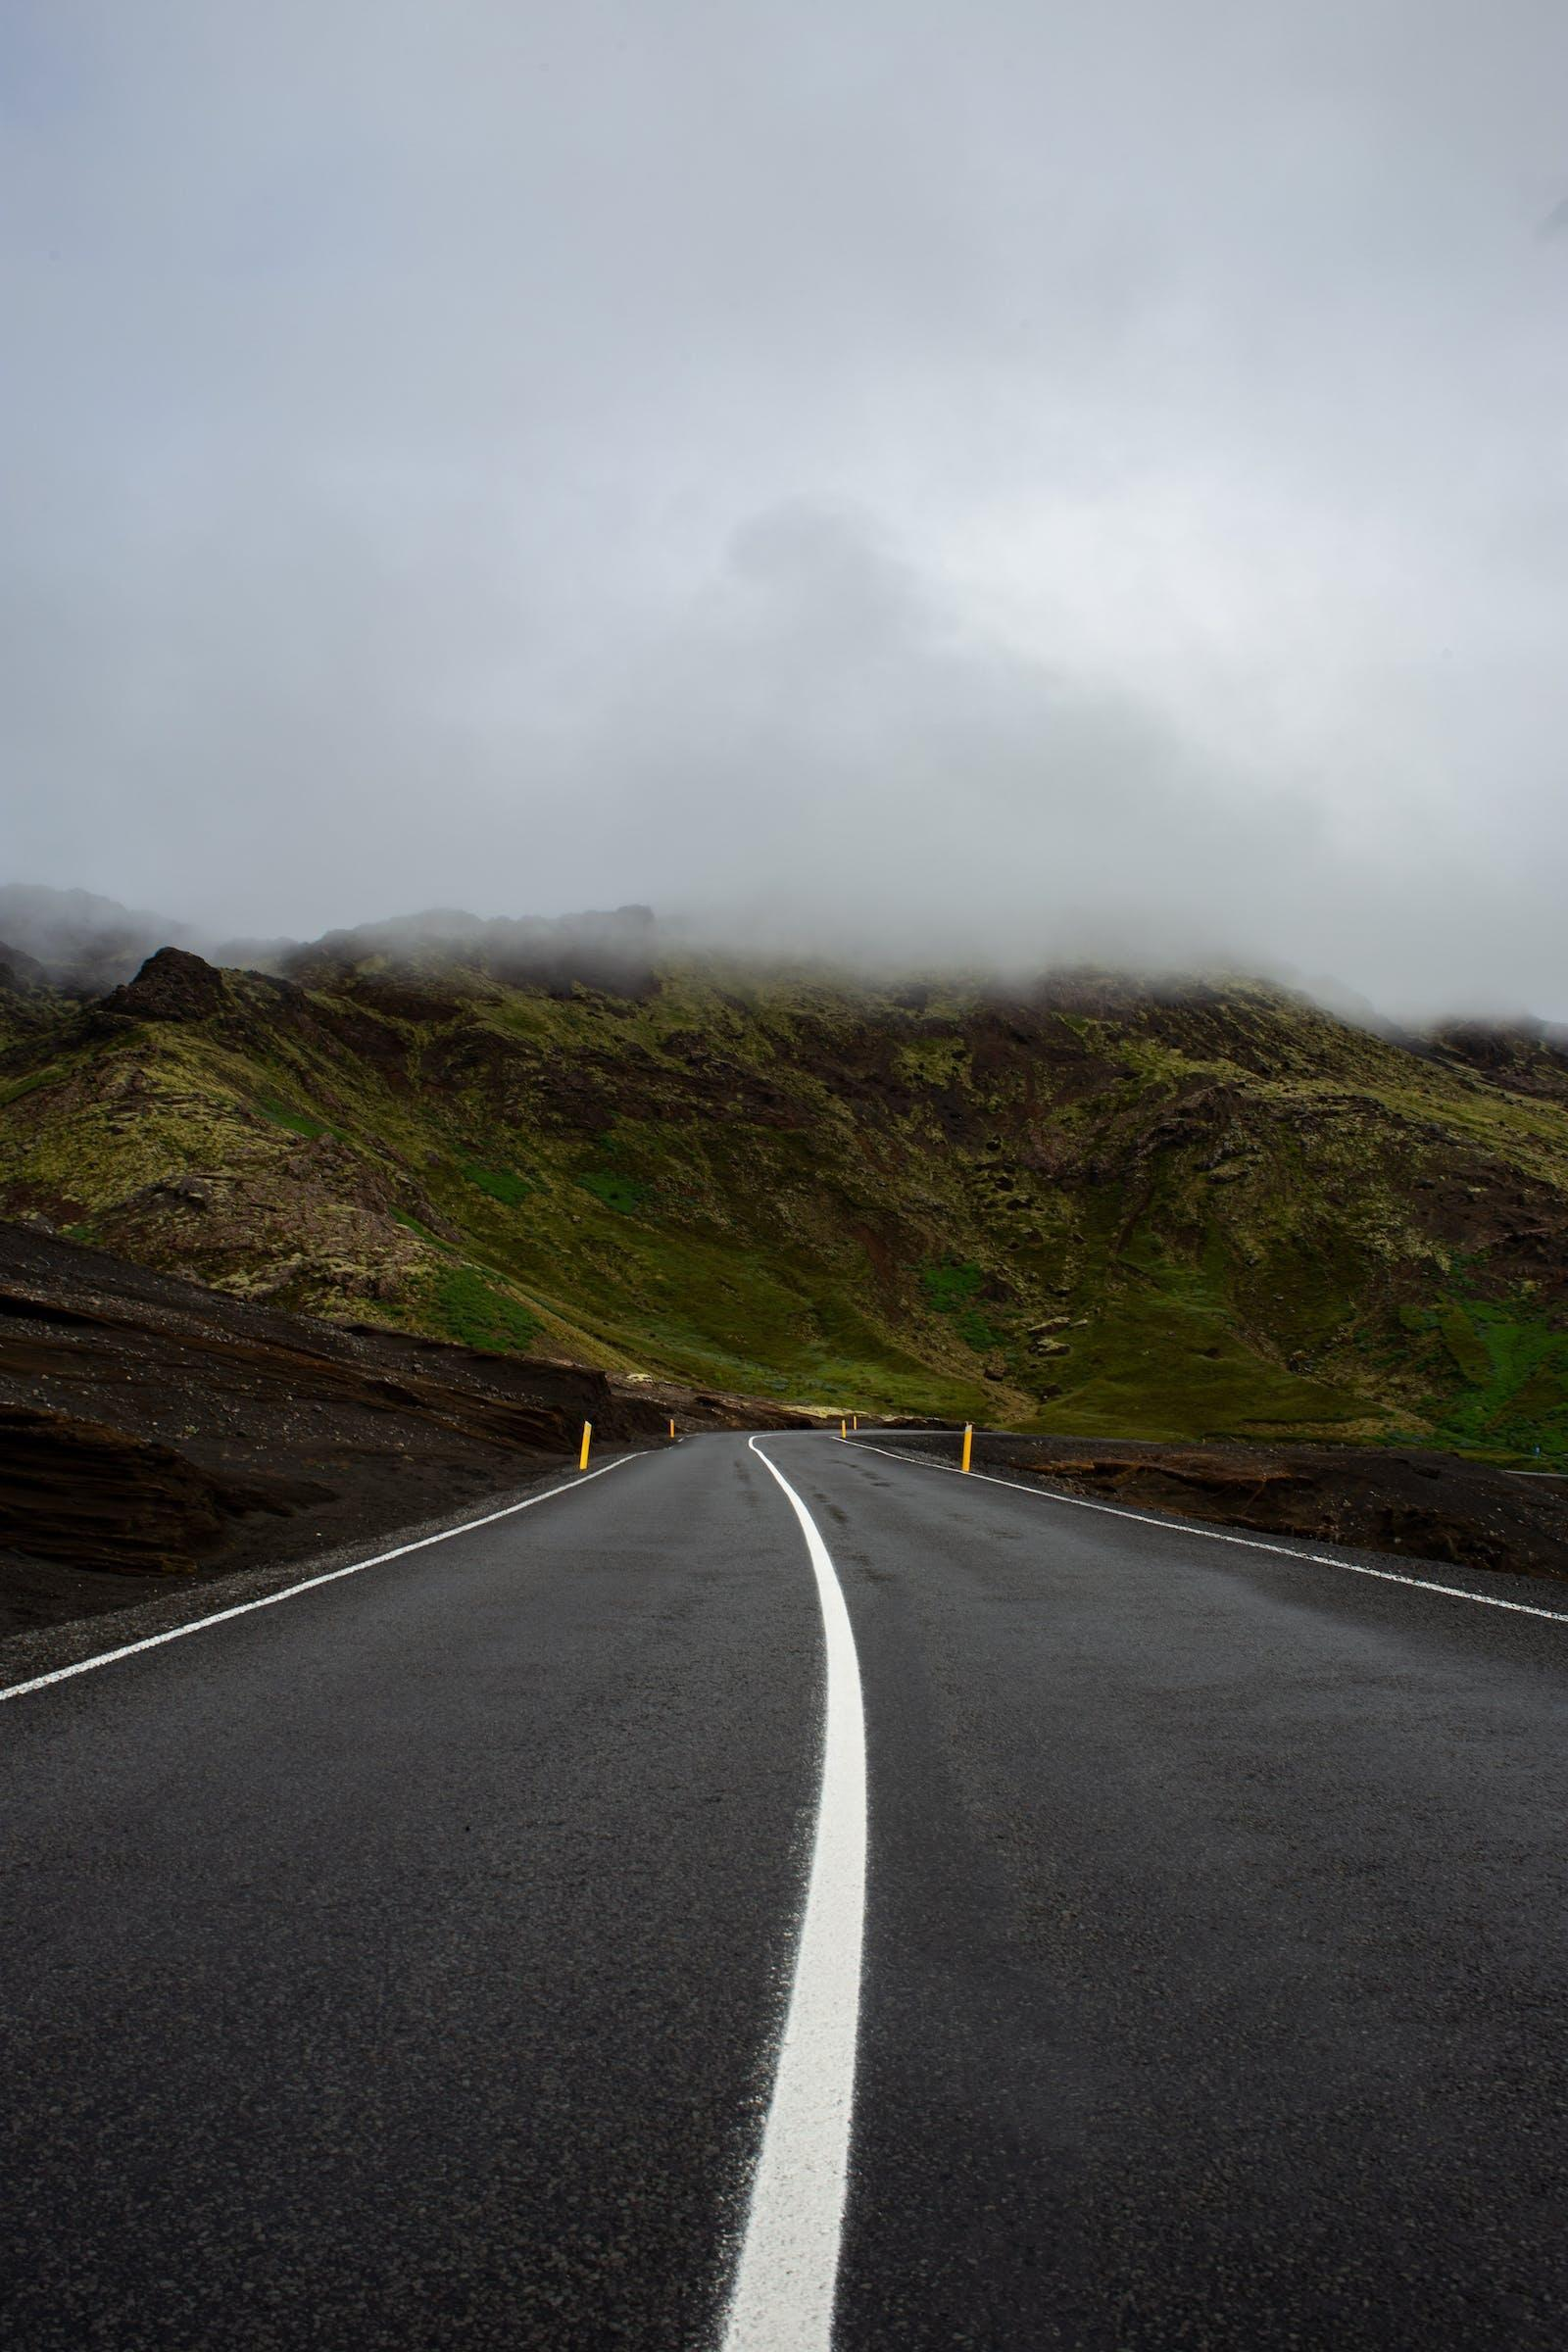field: (0, 950, 1564, 1461)
road: (5, 1433, 822, 2350), (761, 1433, 1564, 2350)
